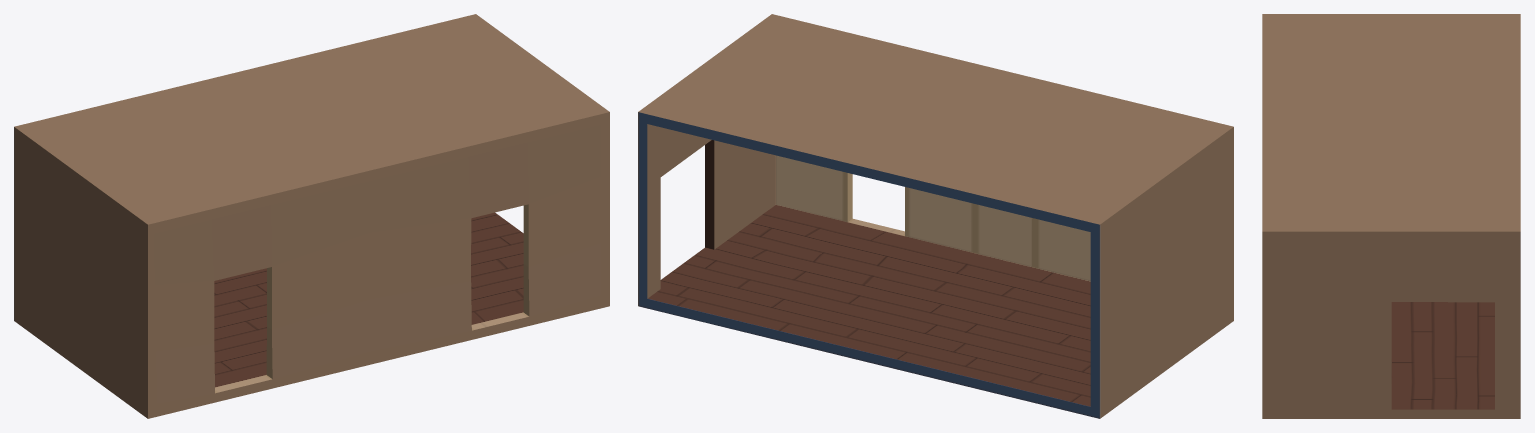
The model's file is Hallway2UP_2Doors_LEFT.fbx.
3 renders of one model, left to right at view 1: azimuth 30°, elevation 25°; view 2: azimuth 150°, elevation 25°; view 3: azimuth 270°, elevation 25°, orthographic. The views are drawn at different scales.
Parts seen in each view (by area): view 1: up2door_LEft; view 2: up2door_LEft; view 3: up2door_LEft.
Boxes of the visible parts, box(x1,y1,x2,y2) form: up2door_LEft: box(14, 14, 609, 418); up2door_LEft: box(638, 14, 1233, 418); up2door_LEft: box(1262, 14, 1520, 418).
Bounding box in the file's own units: 996 × 400 × 500.
